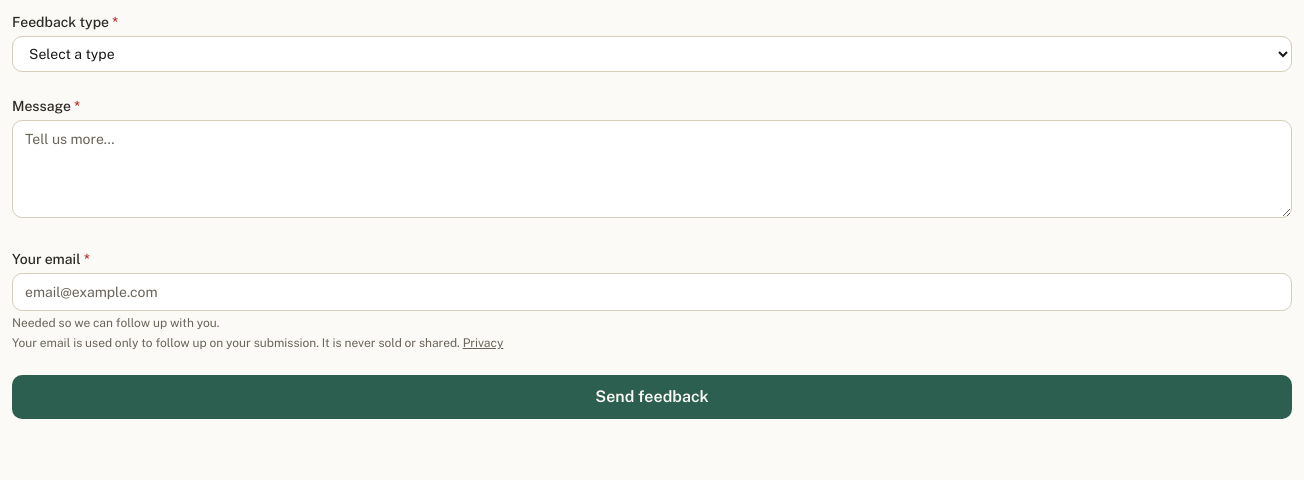
Test: FeedbackForm — client validation › shows feedbackType error when type not selected
Click the button "Send feedback": click(652, 397) x1=12 y1=375 x2=1292 y2=419
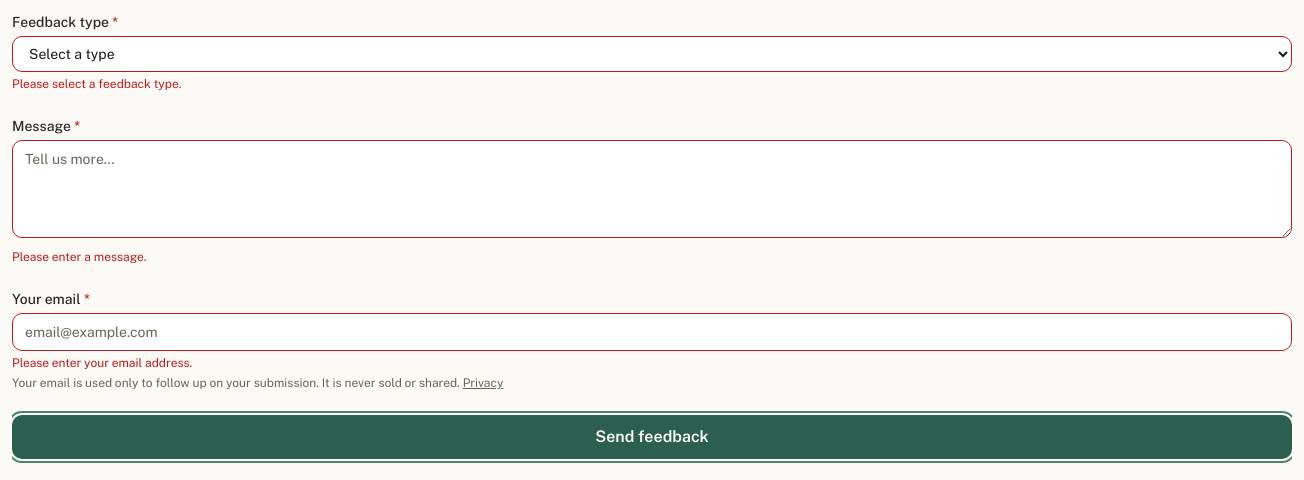
Check: the text "Please select a feedback type." is shown, box x1=12 y1=77 x2=181 y2=91
